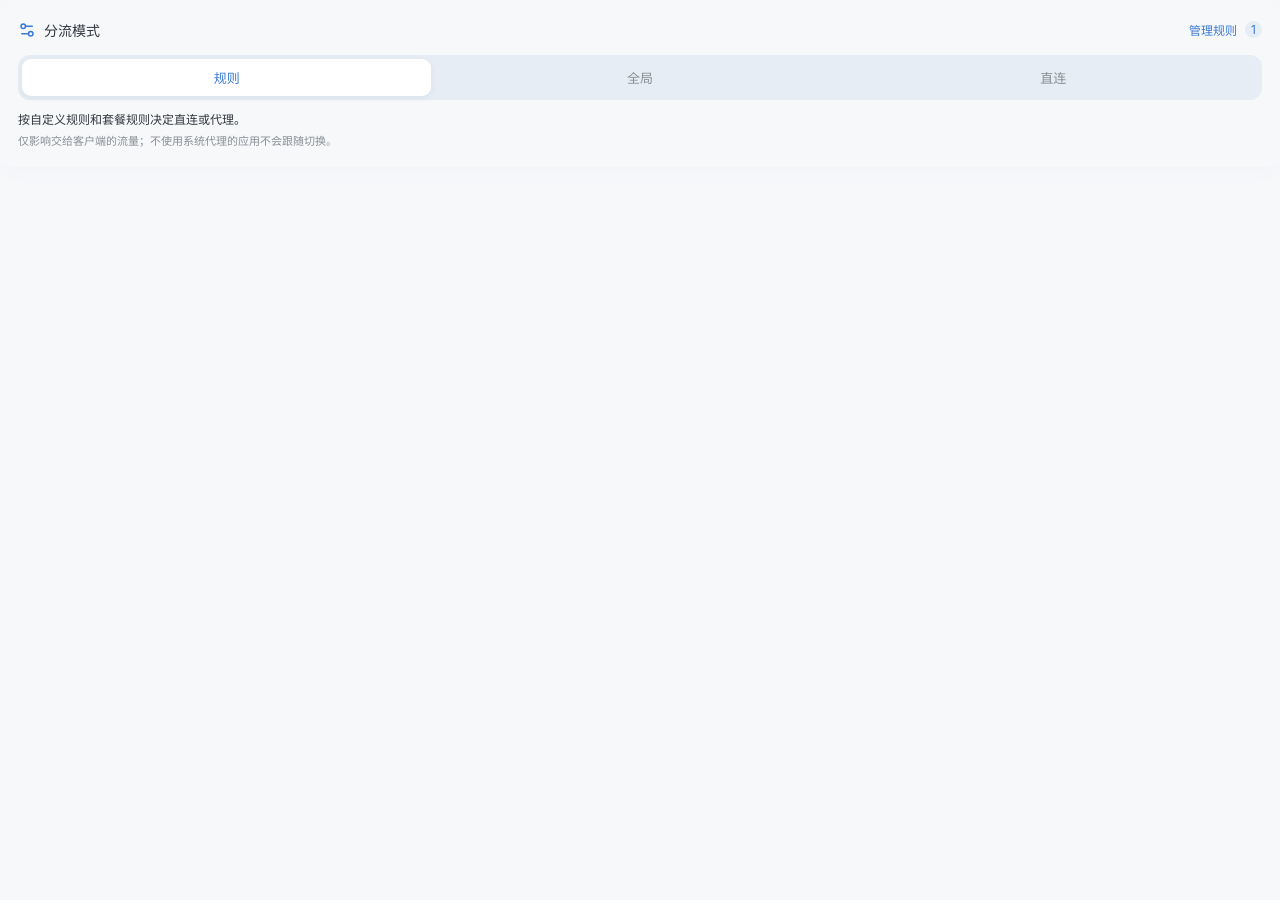
Test: 取消规则修改不会保存，无法使用的旧目标仍可辨认与删除
The width and height of the screenshot is (1280, 900).
Click the button "管理规则 1" at [1222, 30], box [1181,16,1262,43]
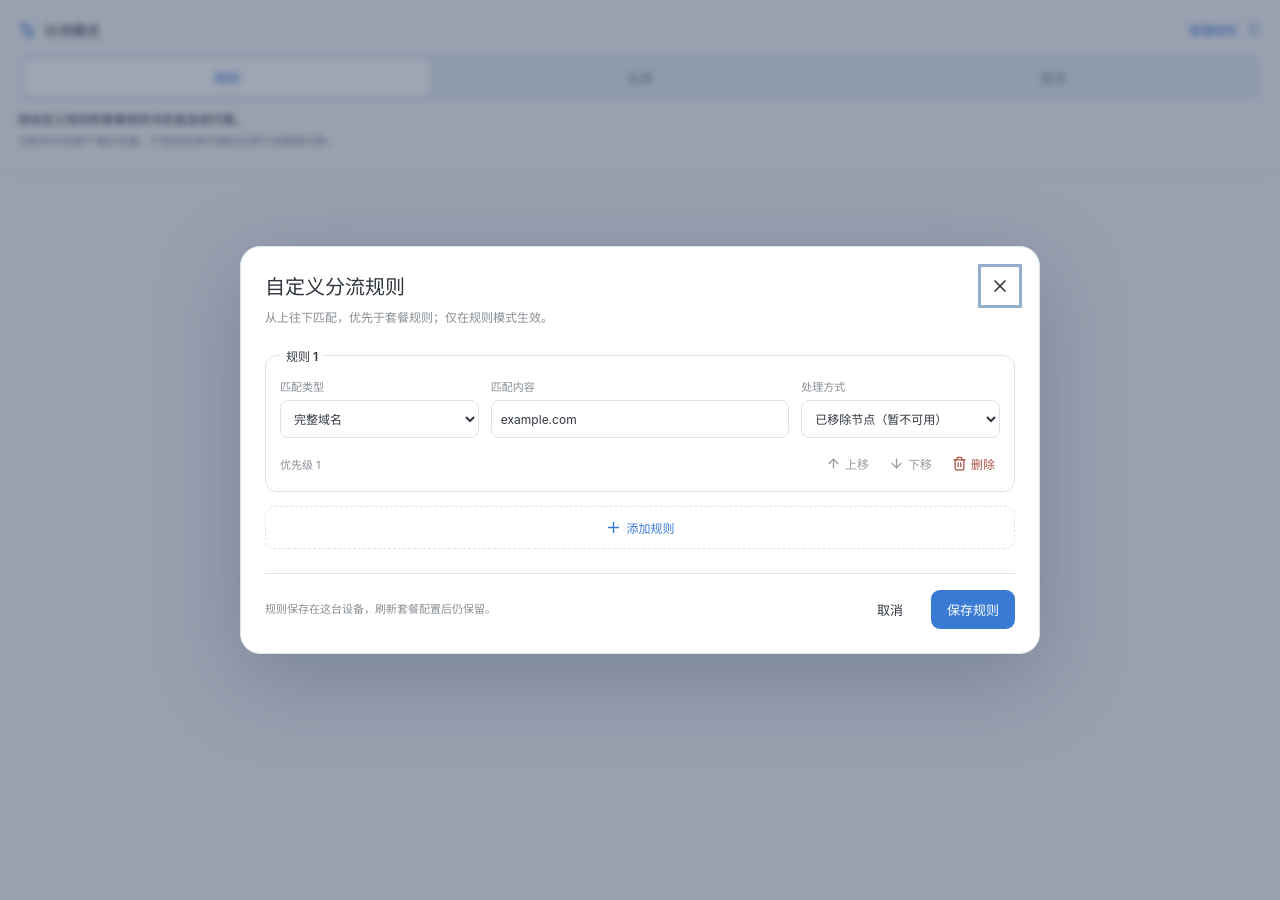
Click the button with aria-label "删除规则 1" at [974, 464], box [947,450,1000,477]
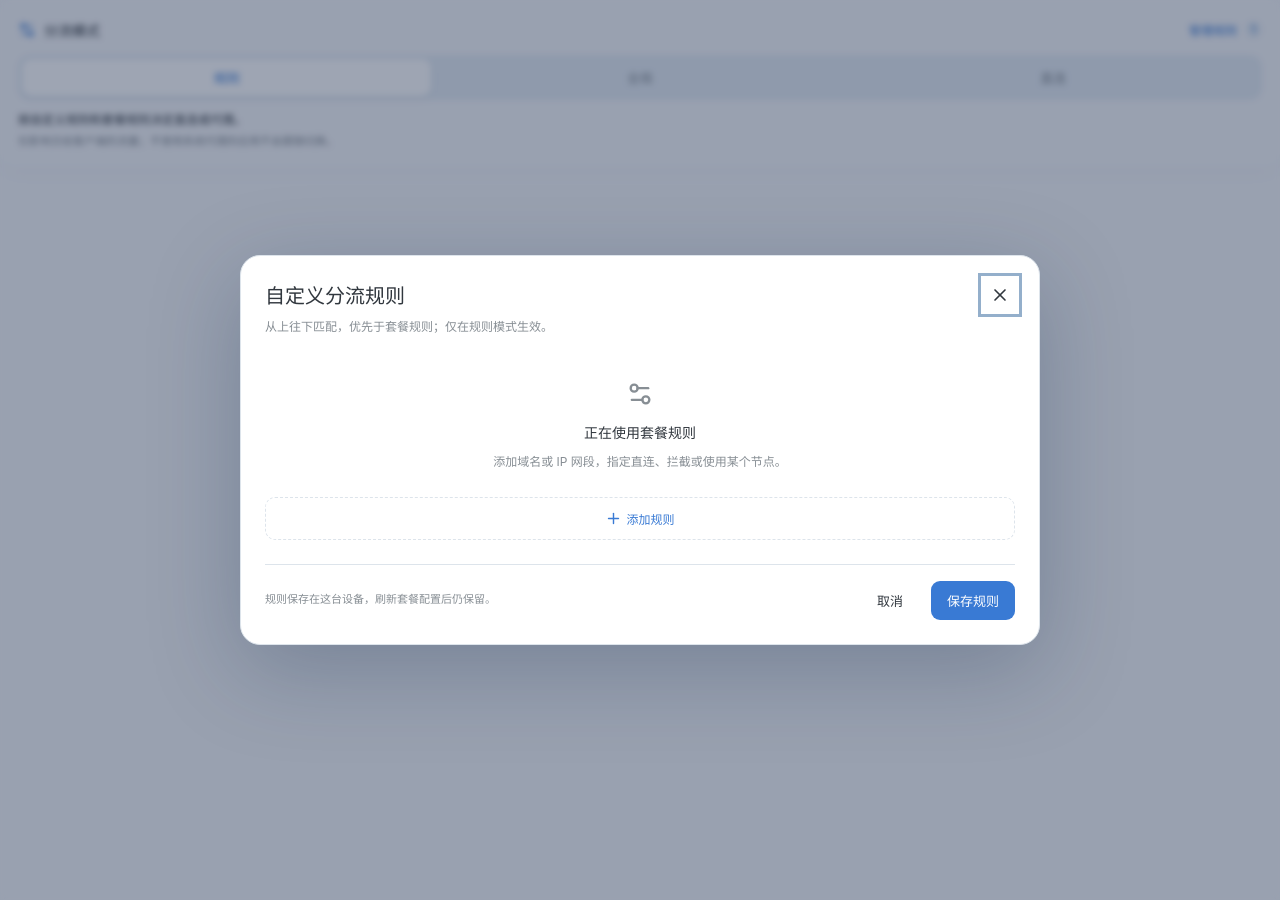
Click the button "取消" at [890, 600], box [861,581,919,620]
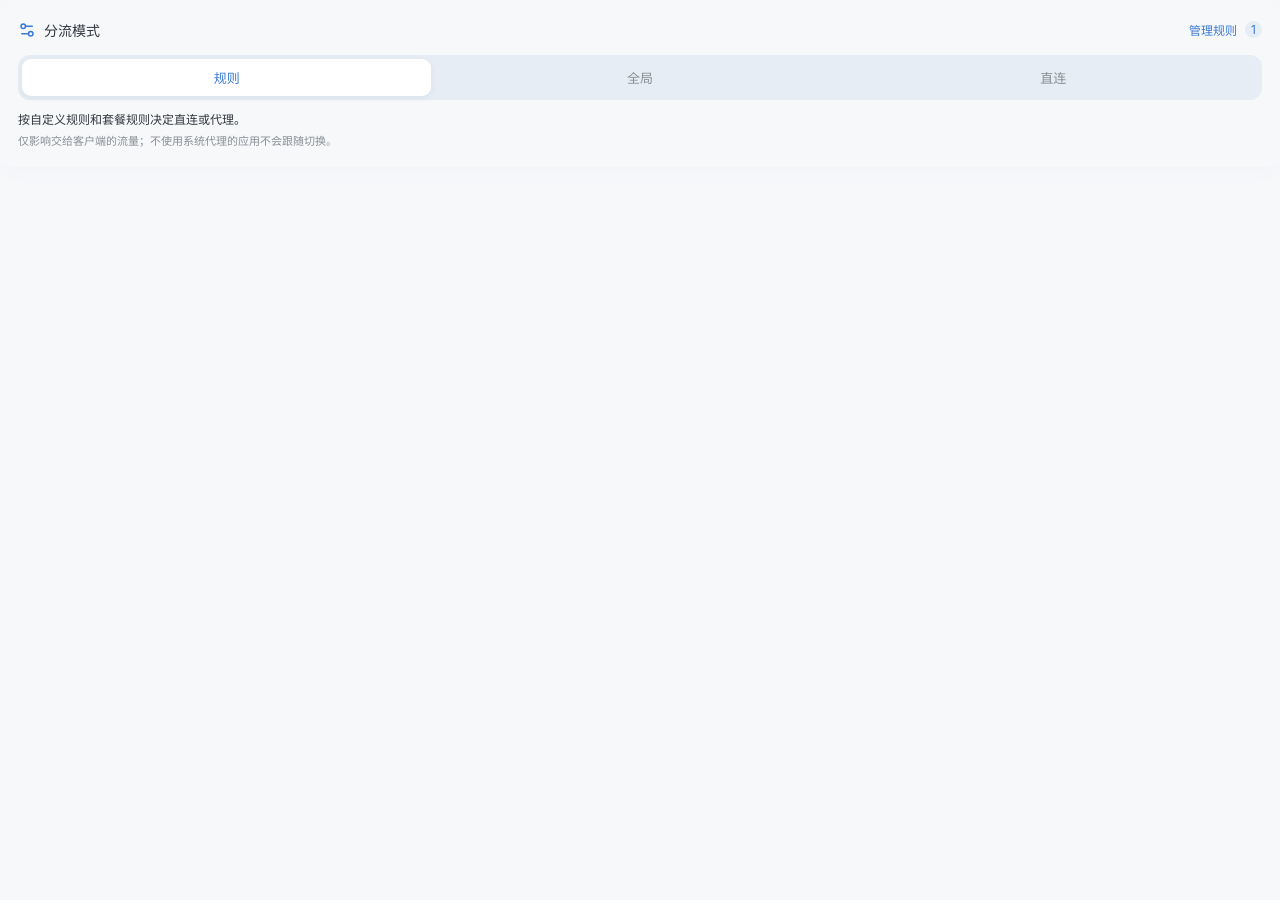
Click the button "管理规则 1" at [1222, 30], box [1181,16,1262,43]
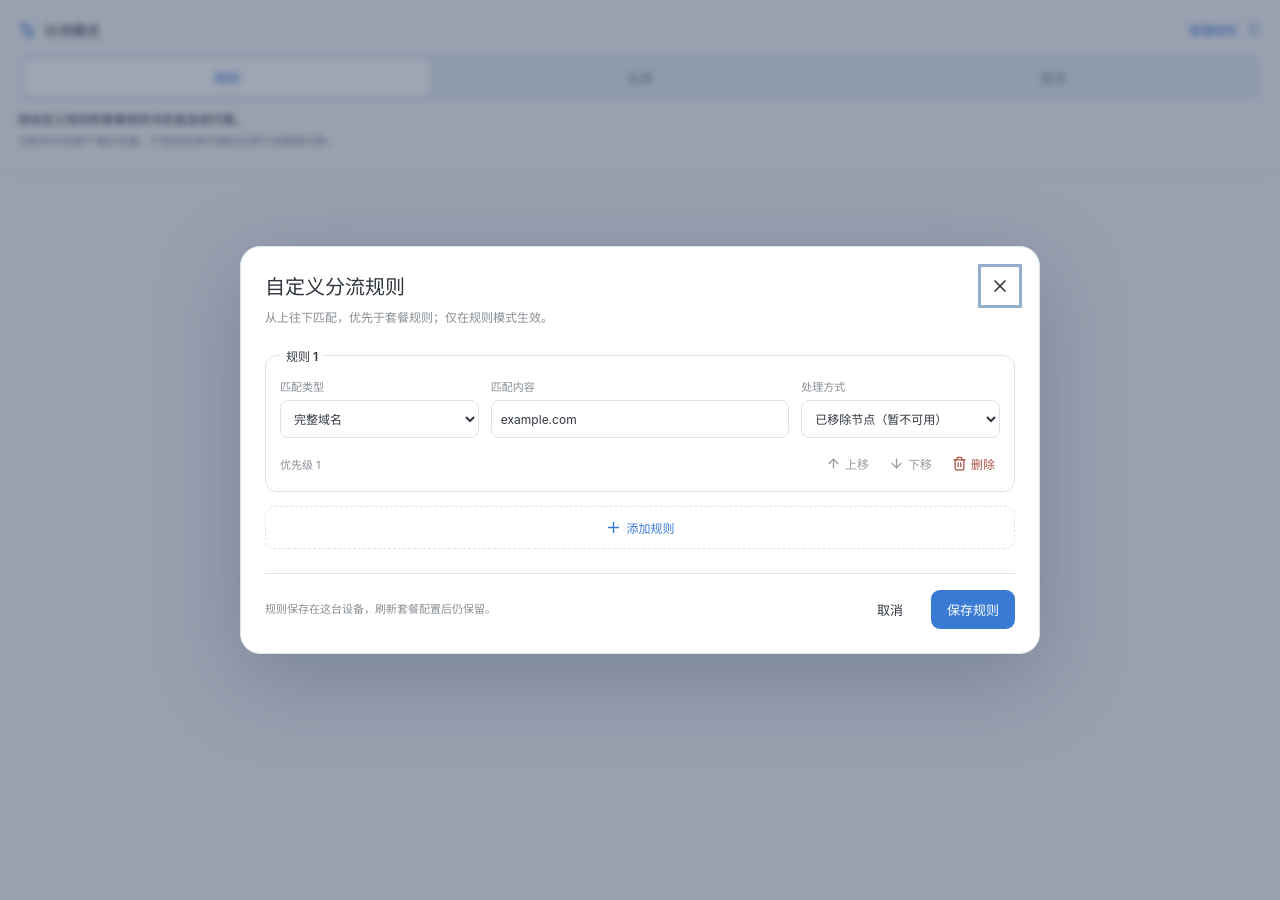
Result: the field named "规则 1 匹配内容" is shown at [491,400,789,438]
